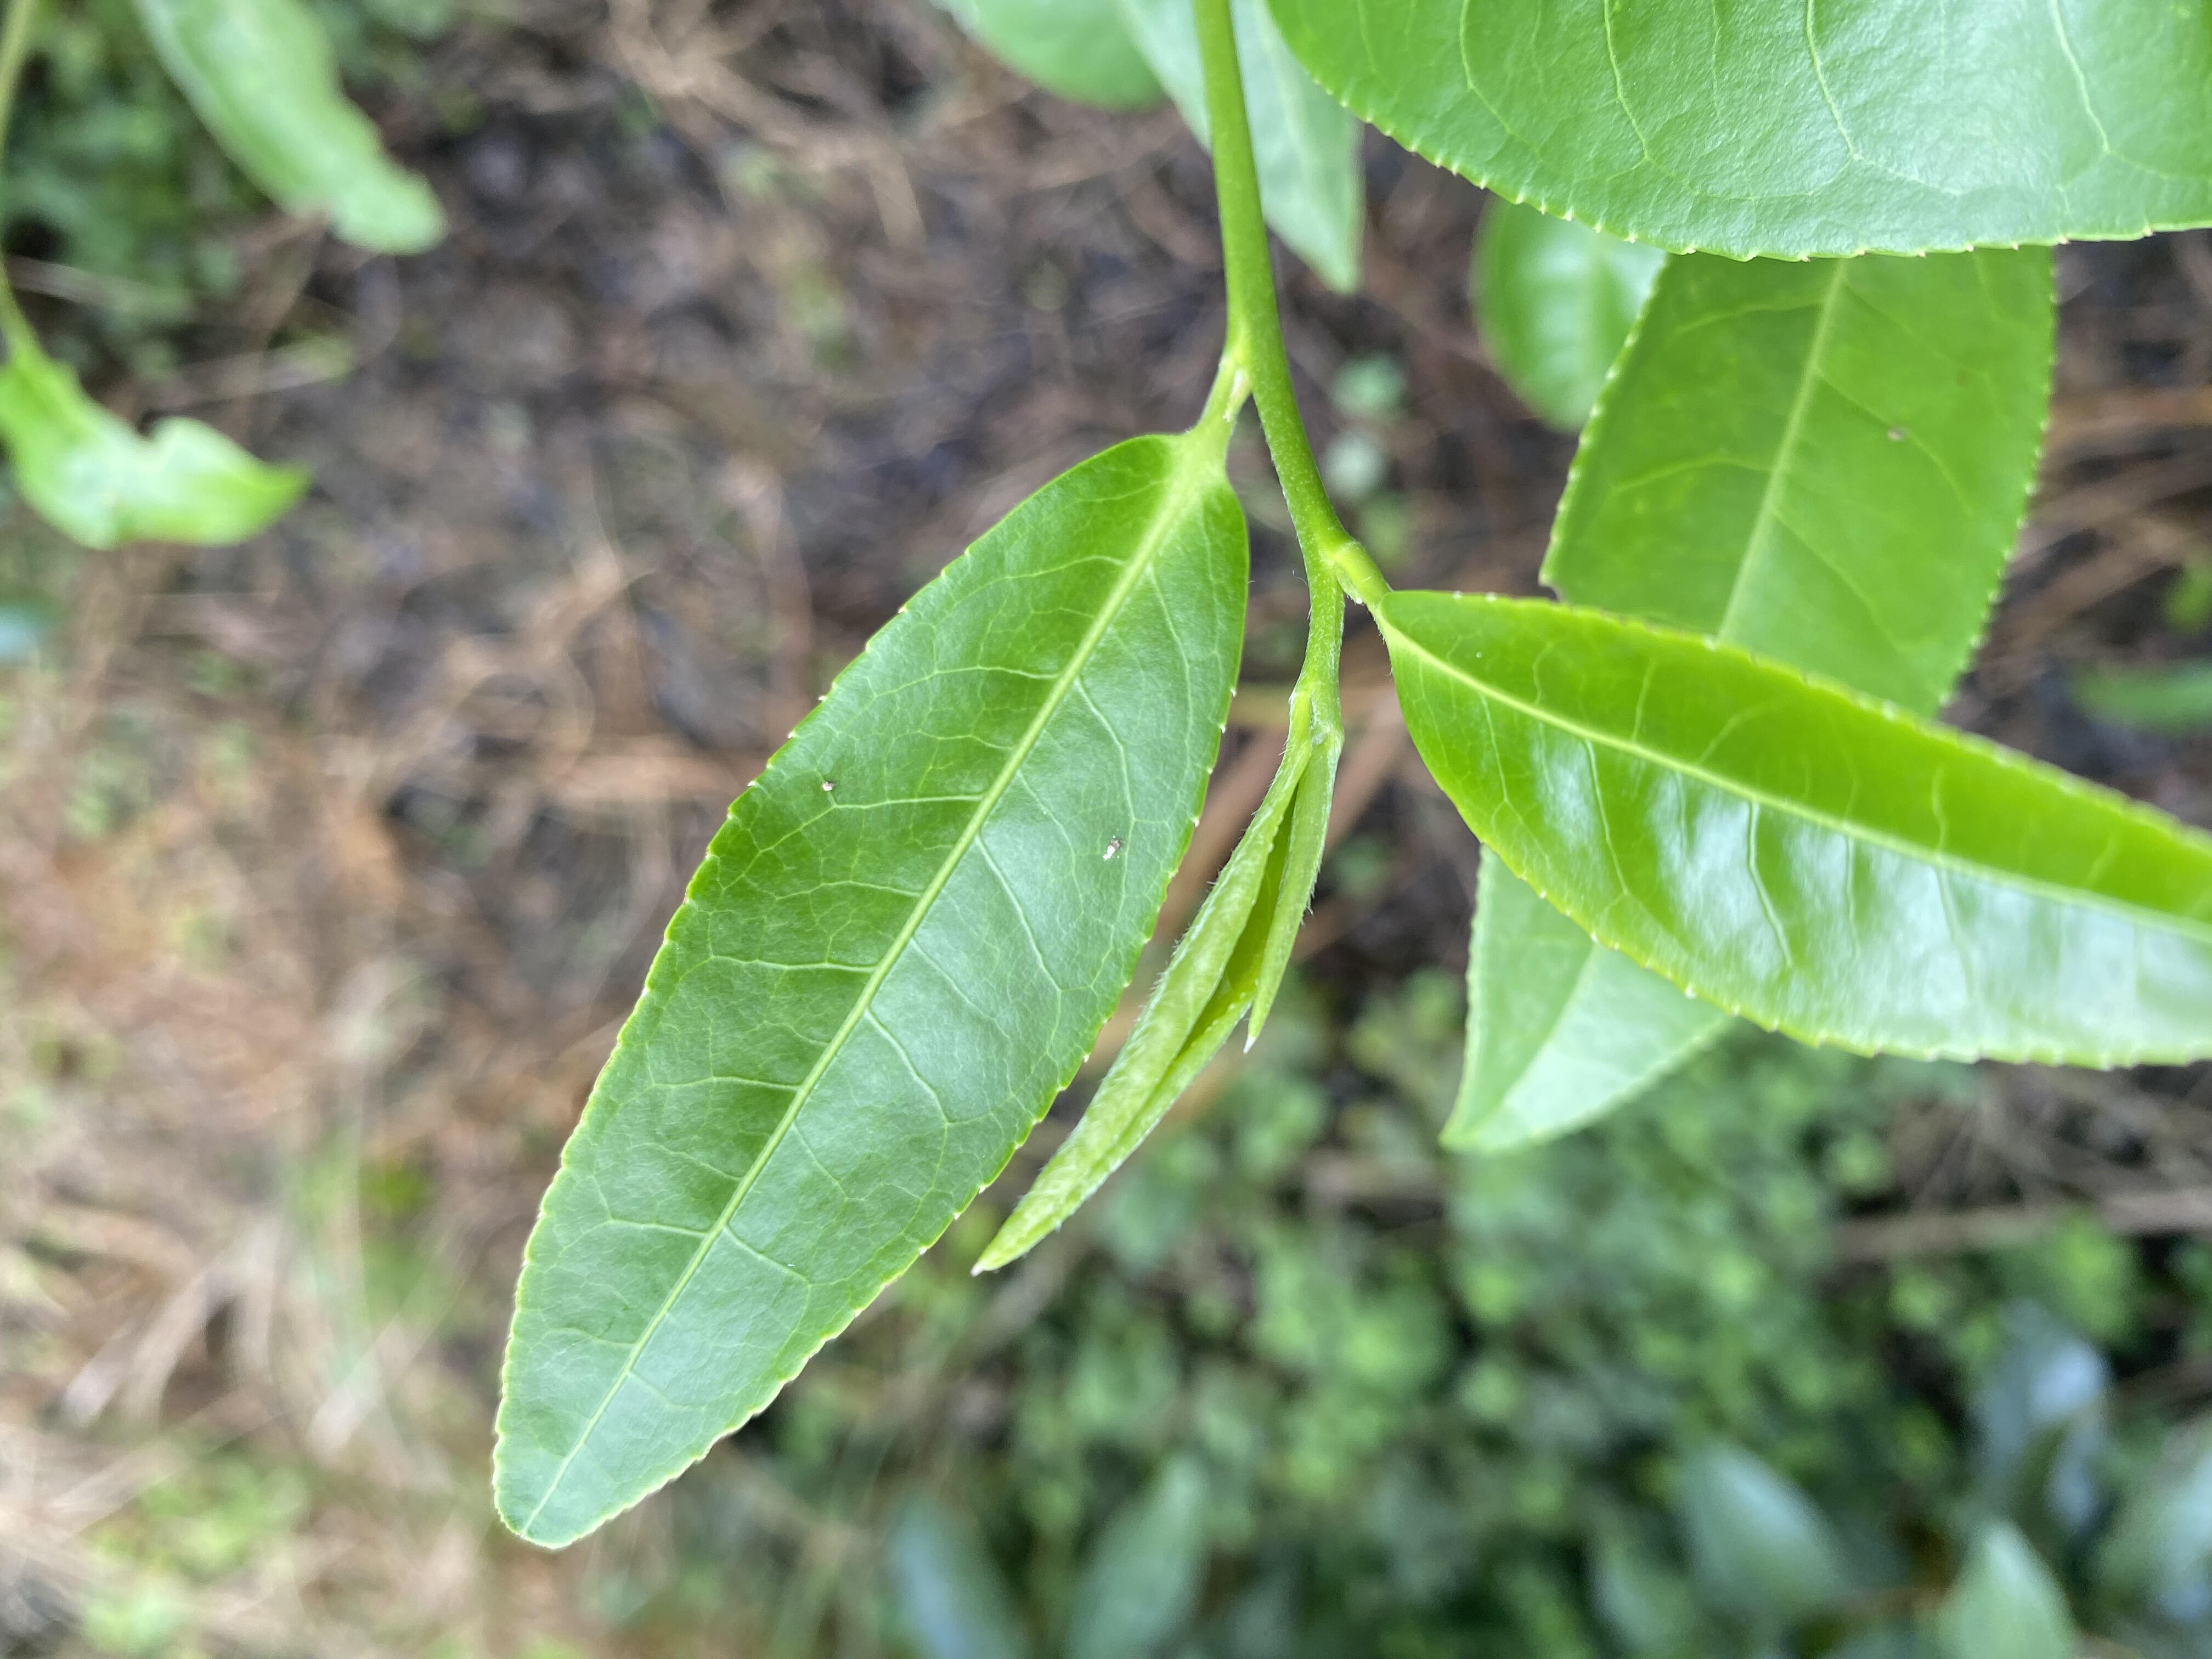healthy: (486, 430, 1254, 1553), (1376, 586, 2212, 1068), (1270, 2, 2212, 261)
